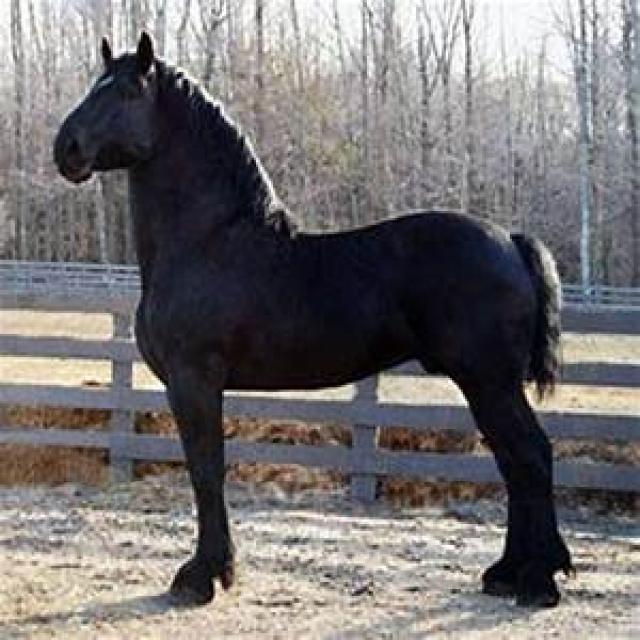horse: (54, 33, 570, 603)
